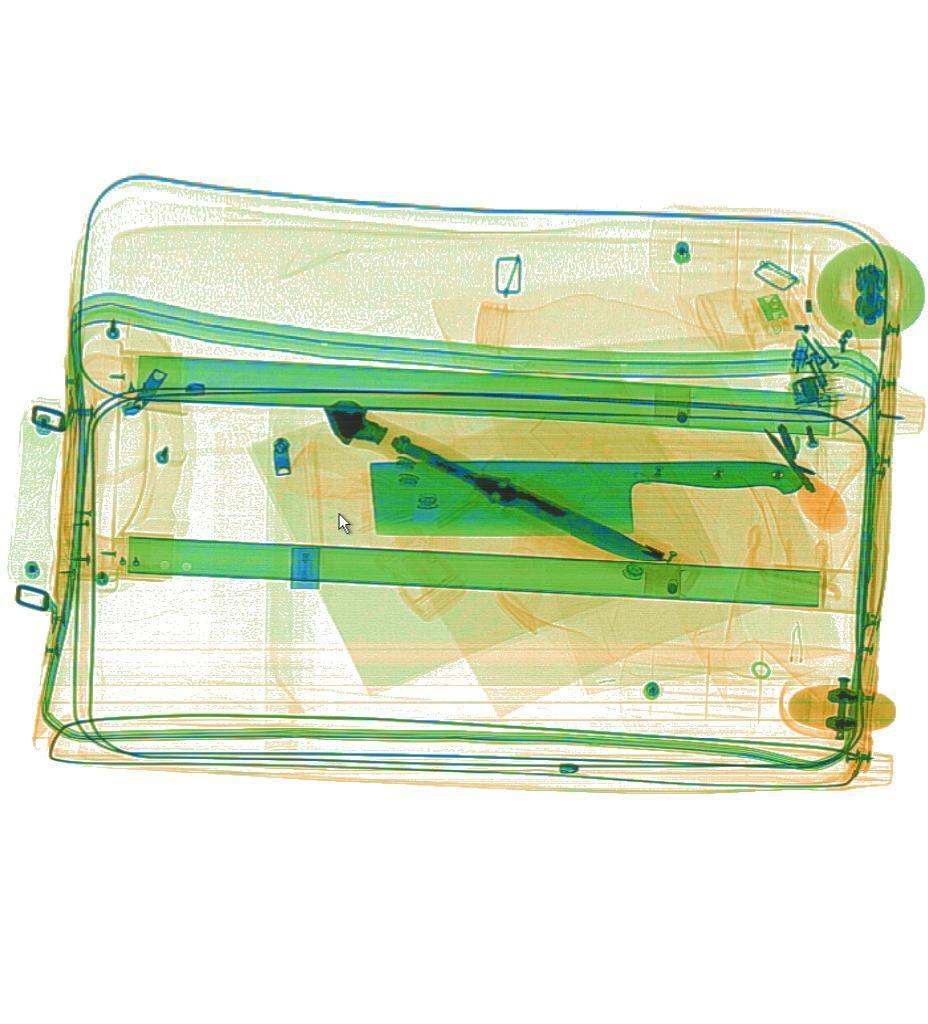Knife: (386, 427, 668, 577), (369, 455, 803, 542)
